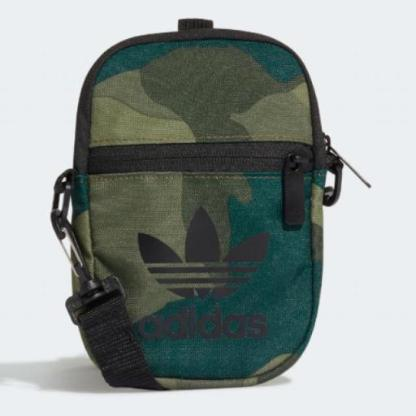bag: (41, 11, 355, 402)
